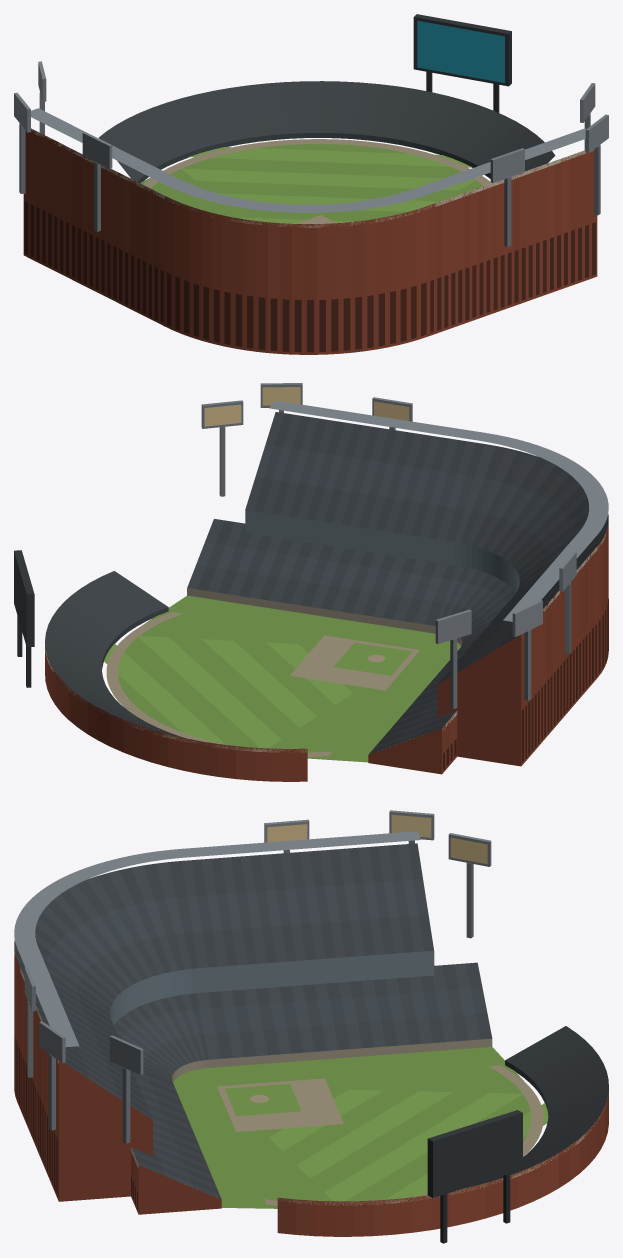
3 views of the same model, one above another, from view 1: azimuth 30°, elevation 25°; view 2: azimuth 150°, elevation 25°; view 3: azimuth 270°, elevation 25° (orthographic). The views are drawn at different scales.
Parts seen in each view (by area): view 1: queens-ballpark-lod0; view 2: queens-ballpark-lod0; view 3: queens-ballpark-lod0.
Part boxes in pixels (x1,y1,x2,y2): queens-ballpark-lod0: (14,14,608,354); queens-ballpark-lod0: (14,383,608,781); queens-ballpark-lod0: (14,810,608,1243).
Bounding box in the file's own units: 258 × 76.79 × 243.
